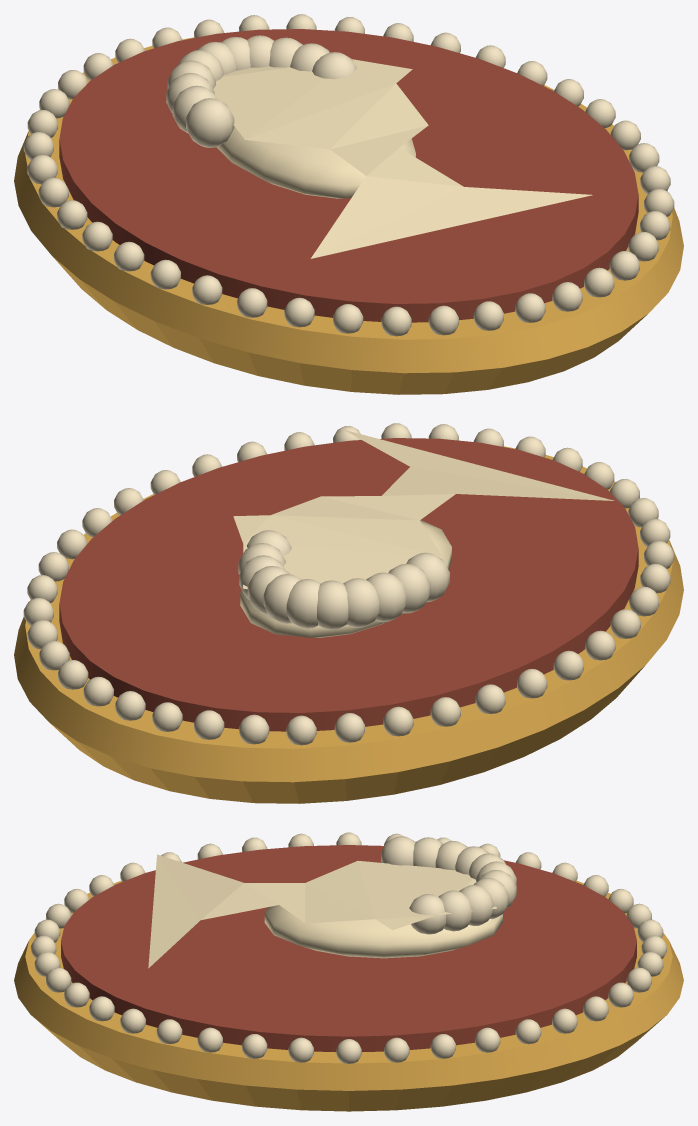
Rendered from cameo.fbx.
3 renders of one model, top to bottom at view 1: azimuth 30°, elevation 25°; view 2: azimuth 150°, elevation 25°; view 3: azimuth 270°, elevation 25°, orthographic. The views are drawn at different scales.
Visible parts, largest first — view 1: cameo joinery; view 2: cameo joinery; view 3: cameo joinery.
Part boxes in pixels (left/top/right/bottom): cameo joinery: left=14, top=14, right=683, bottom=394; cameo joinery: left=14, top=423, right=683, bottom=803; cameo joinery: left=14, top=832, right=683, bottom=1111.
Bounding box in the file's own units: 0.06 × 0.0164 × 0.0768.
